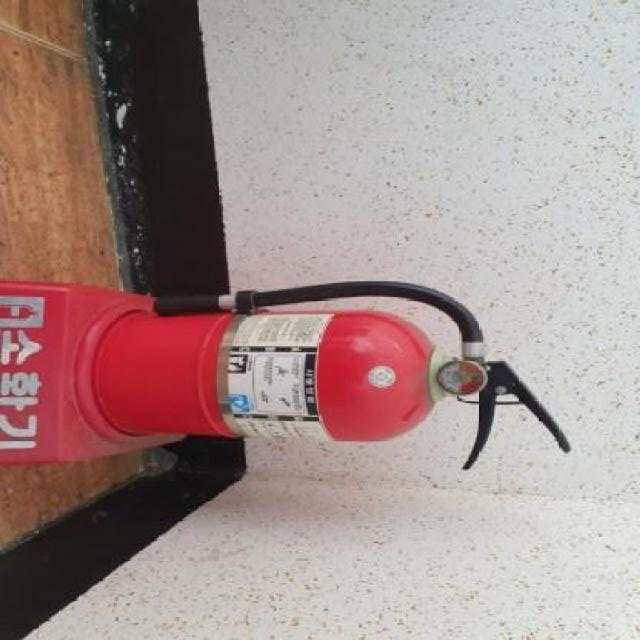fire extinguisher: (92, 279, 571, 470)
